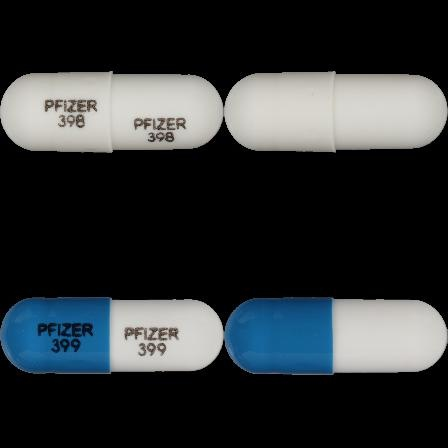0049-3980: (0, 0, 224, 224)
